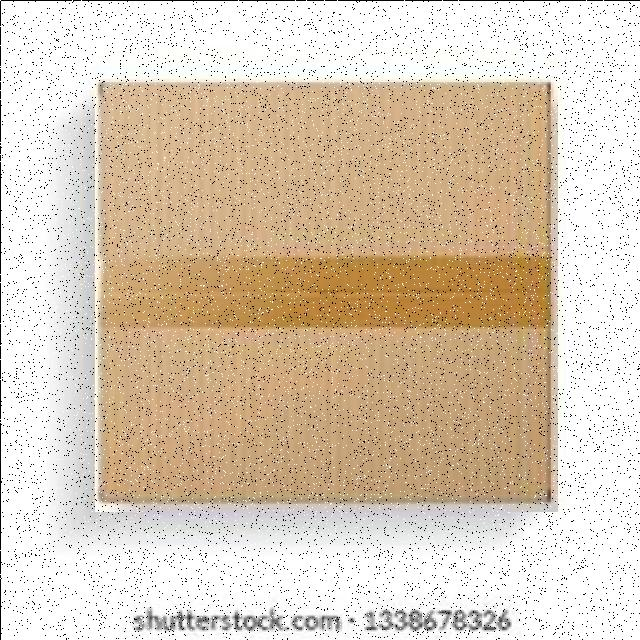normal: (94, 75, 557, 511)
